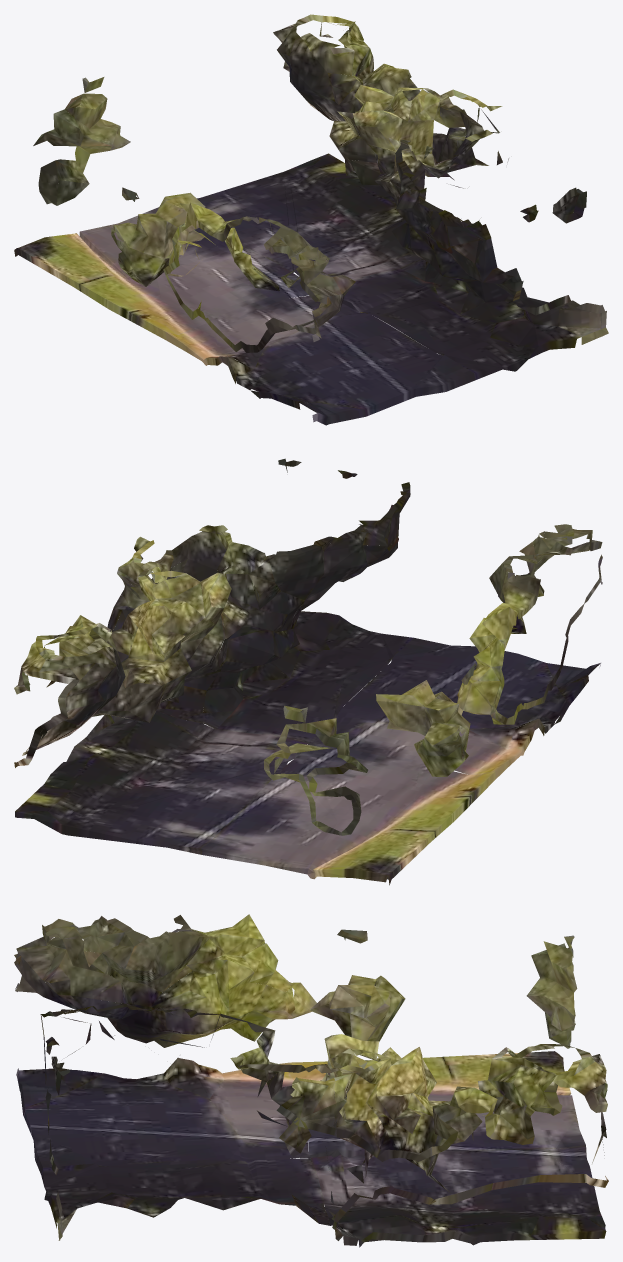
3 views of the same model, one above another, from view 1: azimuth 30°, elevation 25°; view 2: azimuth 150°, elevation 25°; view 3: azimuth 270°, elevation 25° (orthographic). The views are drawn at different scales.
Visible parts, largest first — view 1: Mesh_0; view 2: Mesh_0; view 3: Mesh_0.
Part boxes in pixels (x1,y1,x2,y2): Mesh_0: [14, 14, 608, 425]; Mesh_0: [14, 458, 602, 885]; Mesh_0: [14, 914, 608, 1247].
Size of the model in its own units: 31.58 by 13.92 by 41.56.
Materials: 2 (2 with a texture image).
